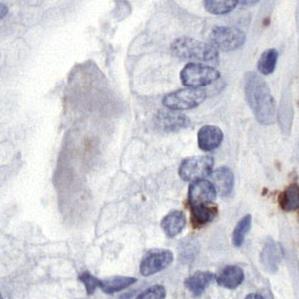Lymphocyte: (182, 196, 220, 228)
